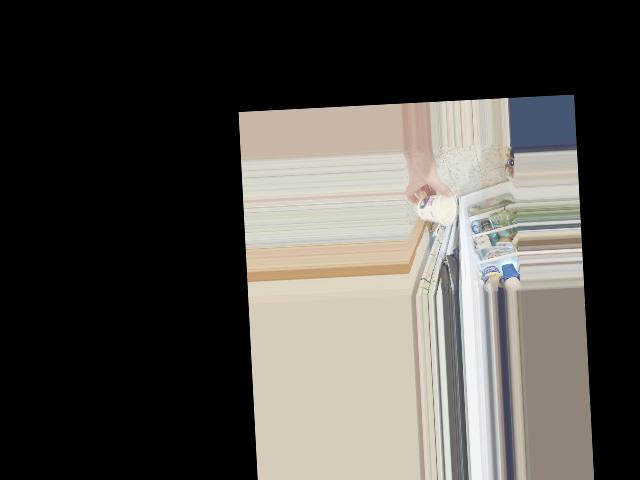cotage: (413, 190, 457, 225)
